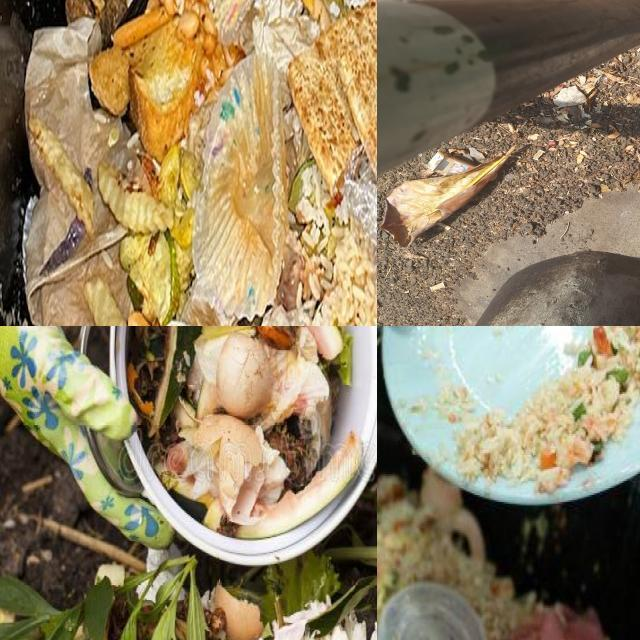Background: (377, 0, 640, 326)
Cig_bud: (507, 122, 515, 131), (638, 222, 640, 224)
Cig_pack: (428, 151, 476, 175)
Garbage: (18, 0, 377, 326), (125, 326, 362, 542), (377, 471, 609, 640), (458, 326, 640, 493)
Plastic: (377, 583, 487, 640)
Plastic_Bag: (513, 604, 609, 640)
